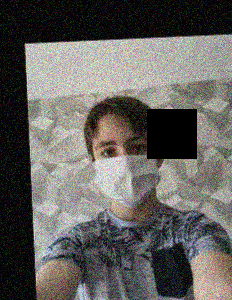with_mask: (92, 130, 160, 209)
